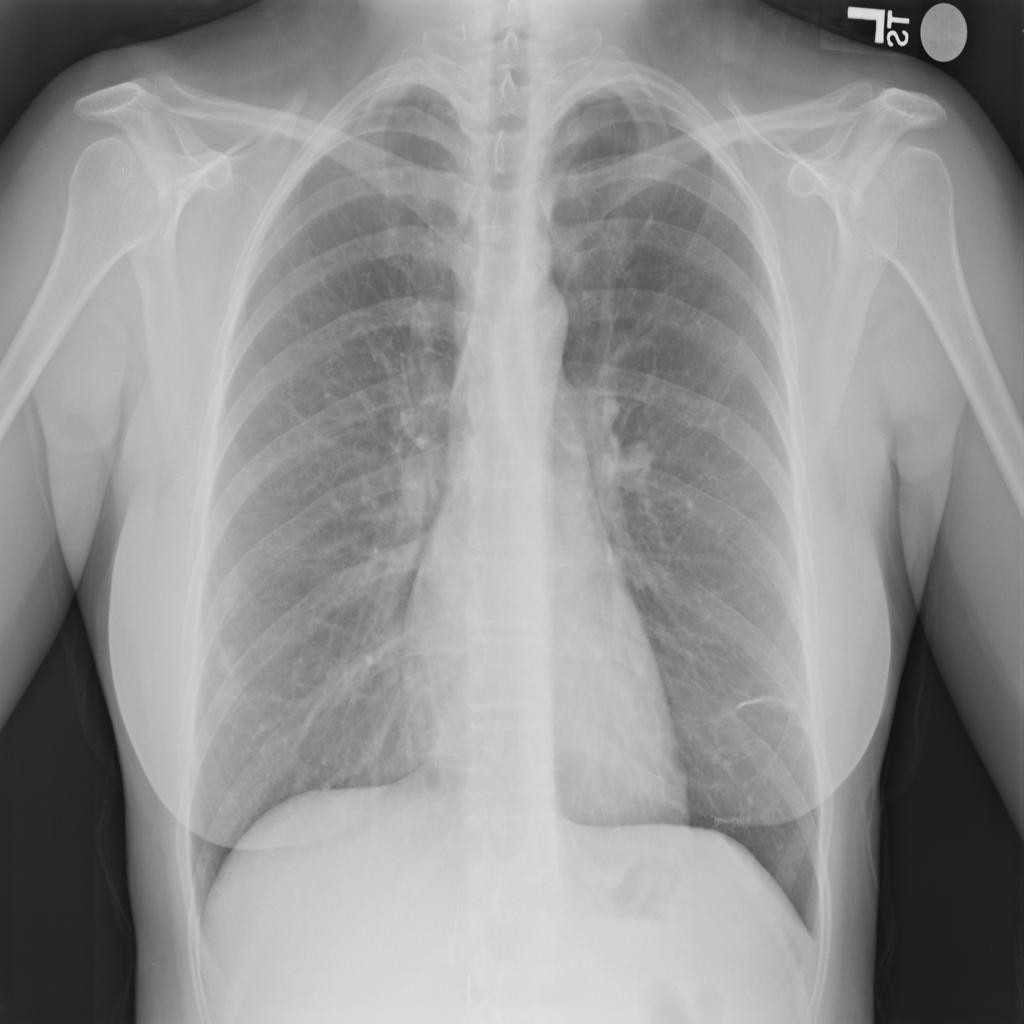nodule: (602, 417, 666, 498), (207, 630, 250, 688)
